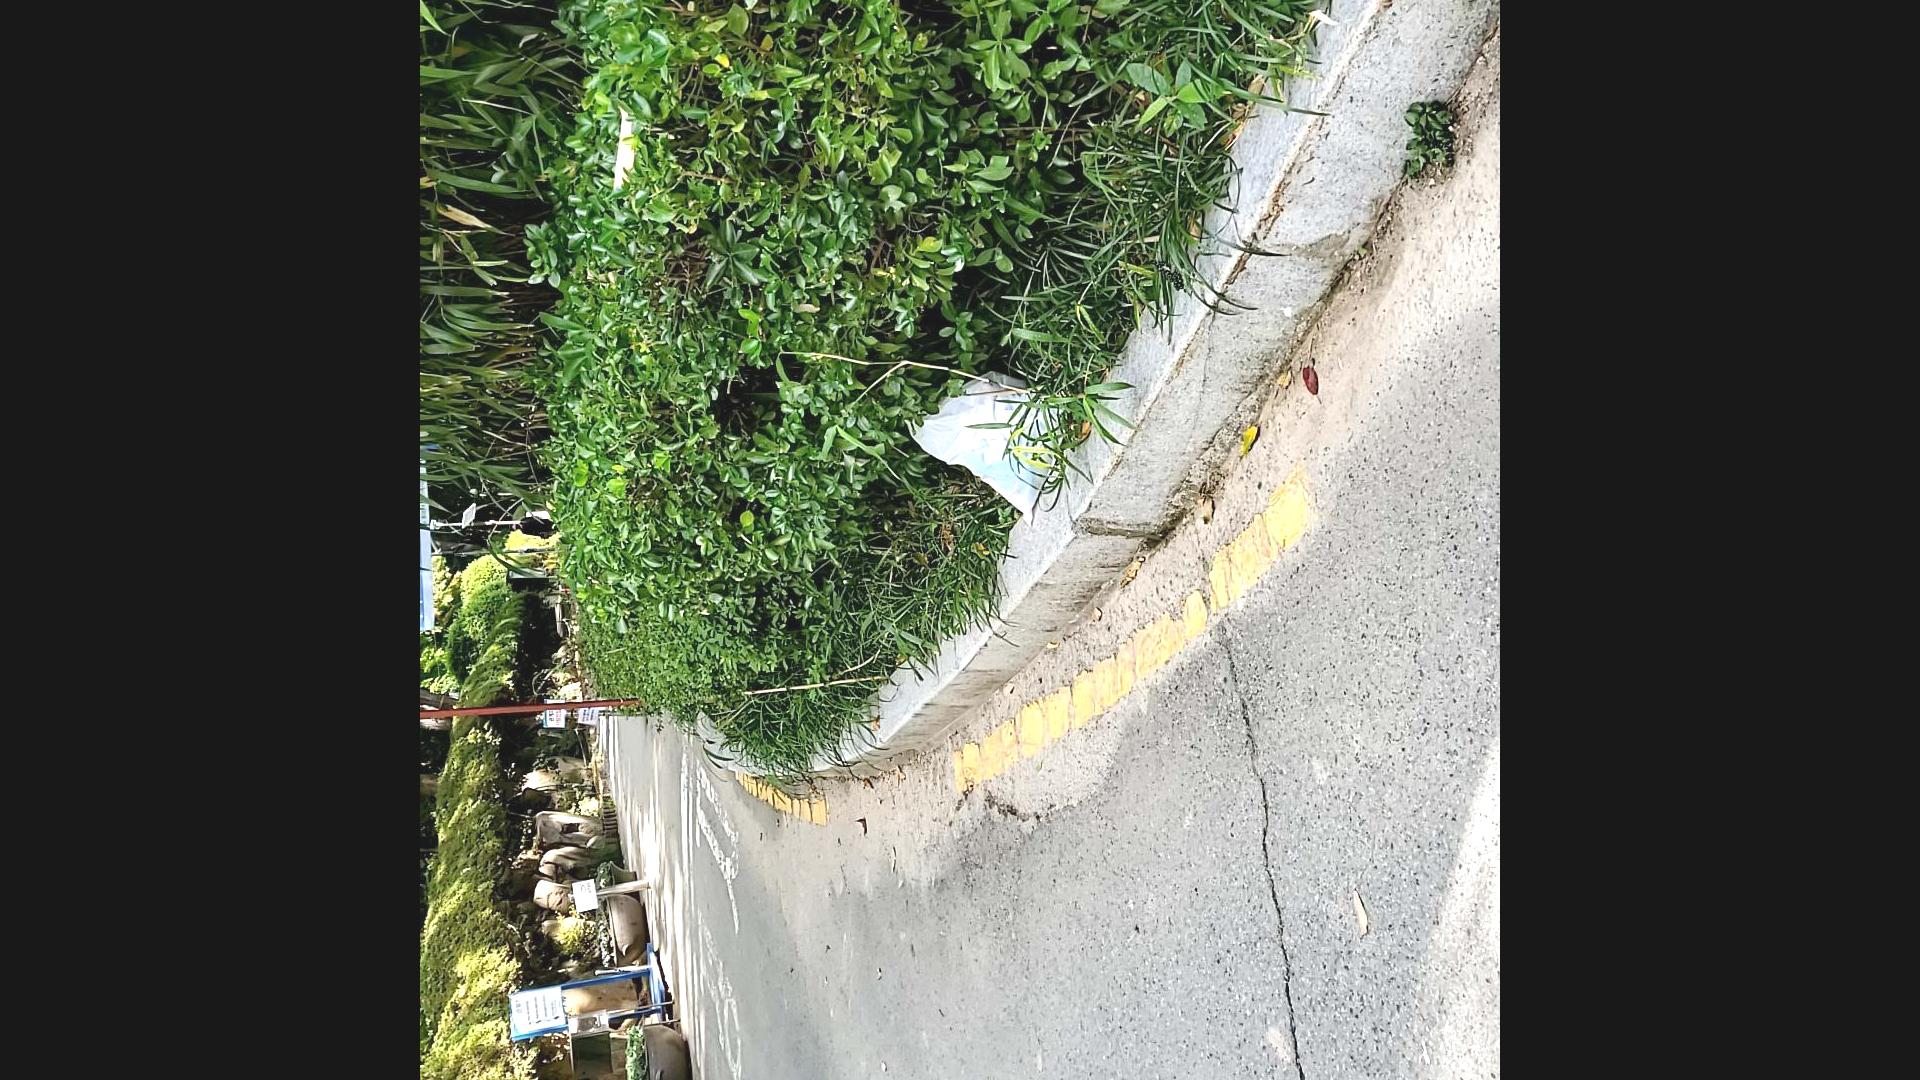white_bag: (882, 360, 1084, 535)
